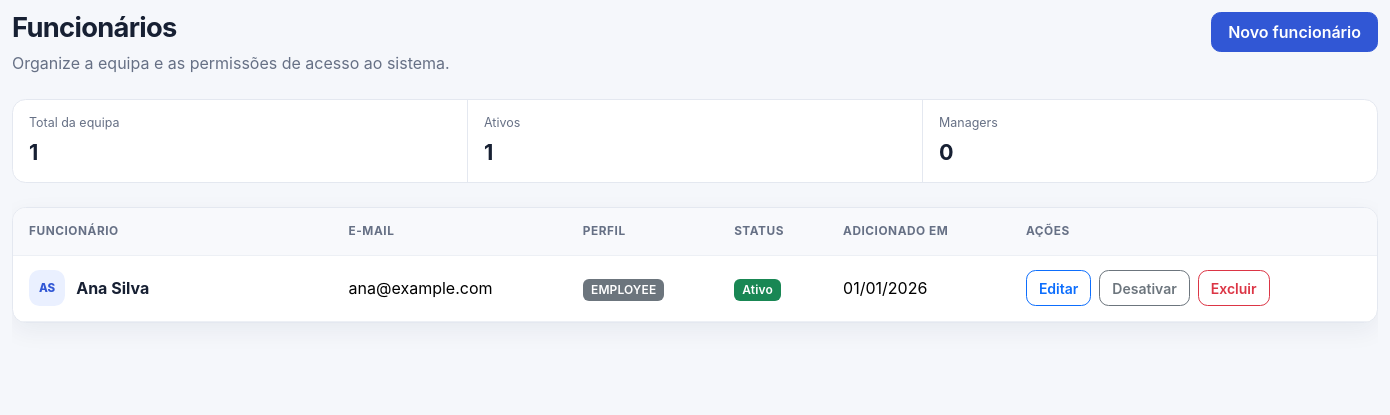
Test case: EmployeesPage › shows a friendly error when toggling the status fails
expect the table is shown: met, box [13, 208, 1377, 322]
Step 1. Click the button "Desativar" → x=1145, y=288, box [1099, 270, 1190, 306]
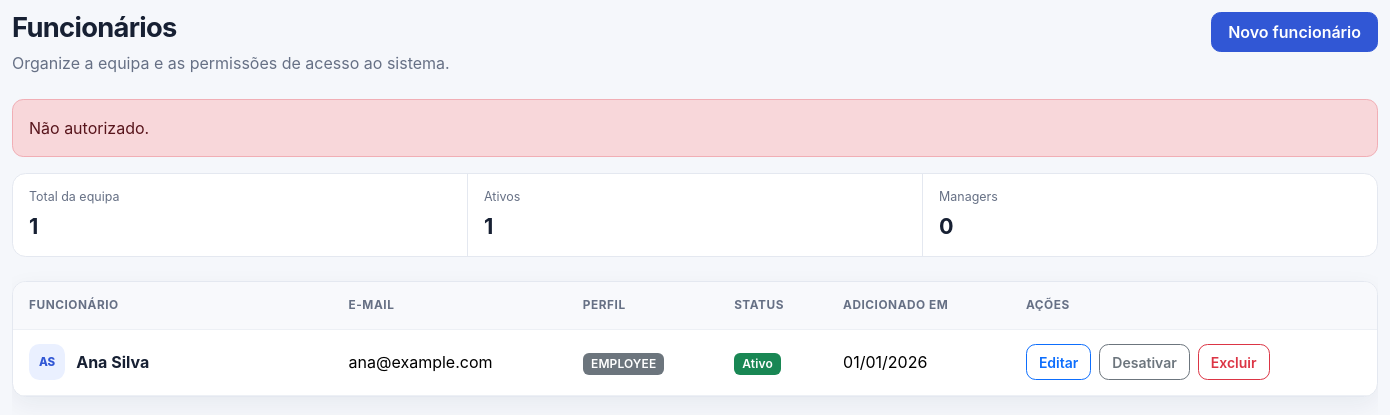
expect the message reads "Não autorizado.": met, box [29, 118, 149, 138]
